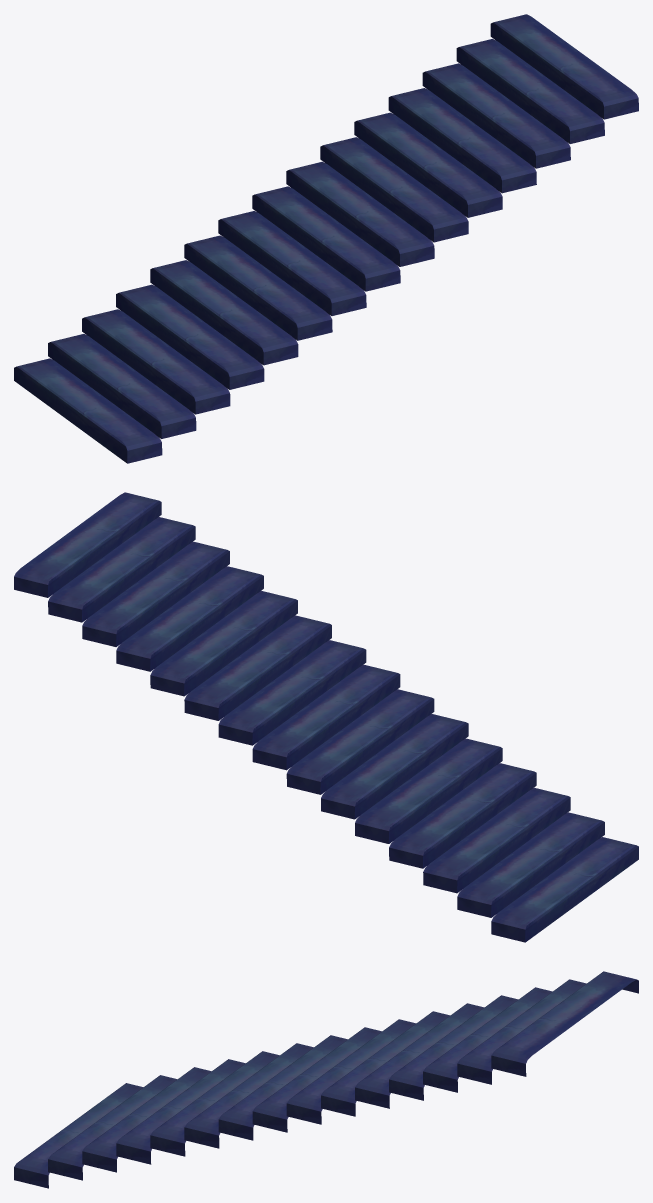
File: Stairs_Long.glb
3 renders of one model, top to bottom at view 1: azimuth 30°, elevation 25°; view 2: azimuth 150°, elevation 25°; view 3: azimuth 330°, elevation 25°, orthographic.
Visible parts, largest first — view 1: Stairs Long; view 2: Stairs Long; view 3: Stairs Long.
Part boxes in pixels (<box>): Stairs Long: <box>14,14,638,463</box>; Stairs Long: <box>14,492,638,942</box>; Stairs Long: <box>14,971,638,1188</box>.
Size of the model in its own units: 17.11 by 7.81 by 6.57.
Materials: 1 (1 with a texture image).
